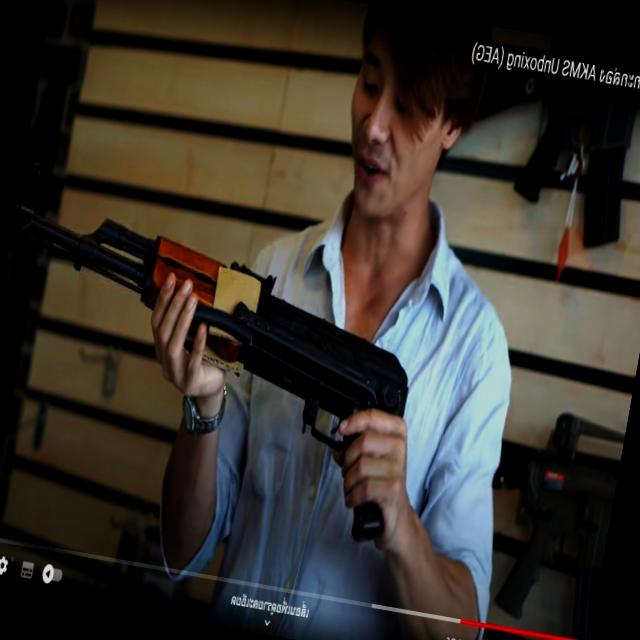ak: (0, 184, 441, 555)
